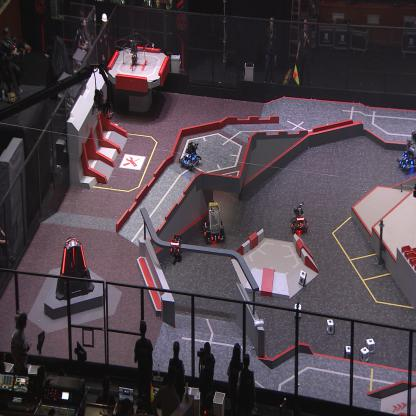car: (202, 199, 226, 244), (396, 131, 416, 174), (178, 140, 201, 171), (290, 202, 308, 235)
